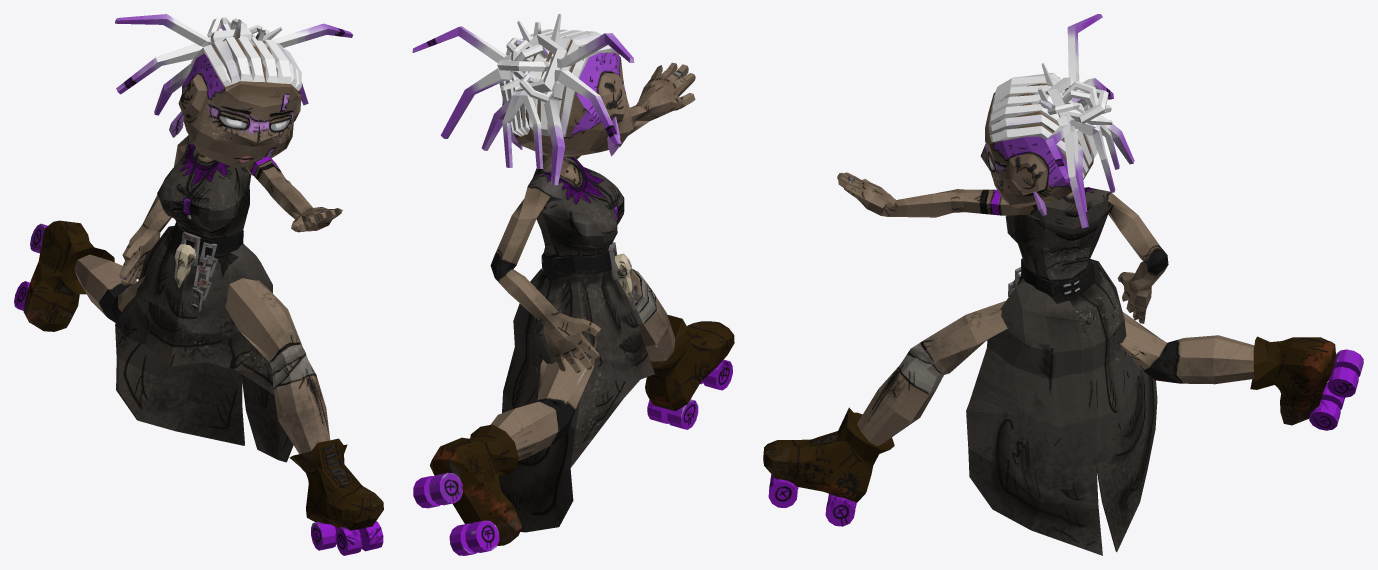
Rendered from bruja_000021.obj.
3 views of the same model, side by side, from view 1: azimuth 30°, elevation 25°; view 2: azimuth 150°, elevation 25°; view 3: azimuth 270°, elevation 25° (orthographic). The views are drawn at different scales.
Visible parts, largest first — view 1: Bruja_Plane.001; view 2: Bruja_Plane.001; view 3: Bruja_Plane.001.
Part boxes in pixels (x1,y1,x2,y2): Bruja_Plane.001: [14, 14, 383, 555]; Bruja_Plane.001: [412, 14, 734, 555]; Bruja_Plane.001: [763, 14, 1363, 555].
Bounding box in the file's own units: 7.22 × 14.69 × 16.79.
